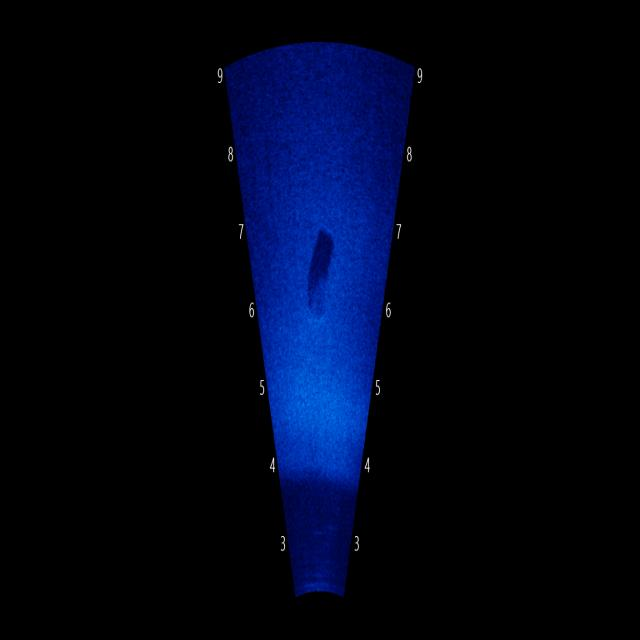square: (310, 225, 338, 328)
